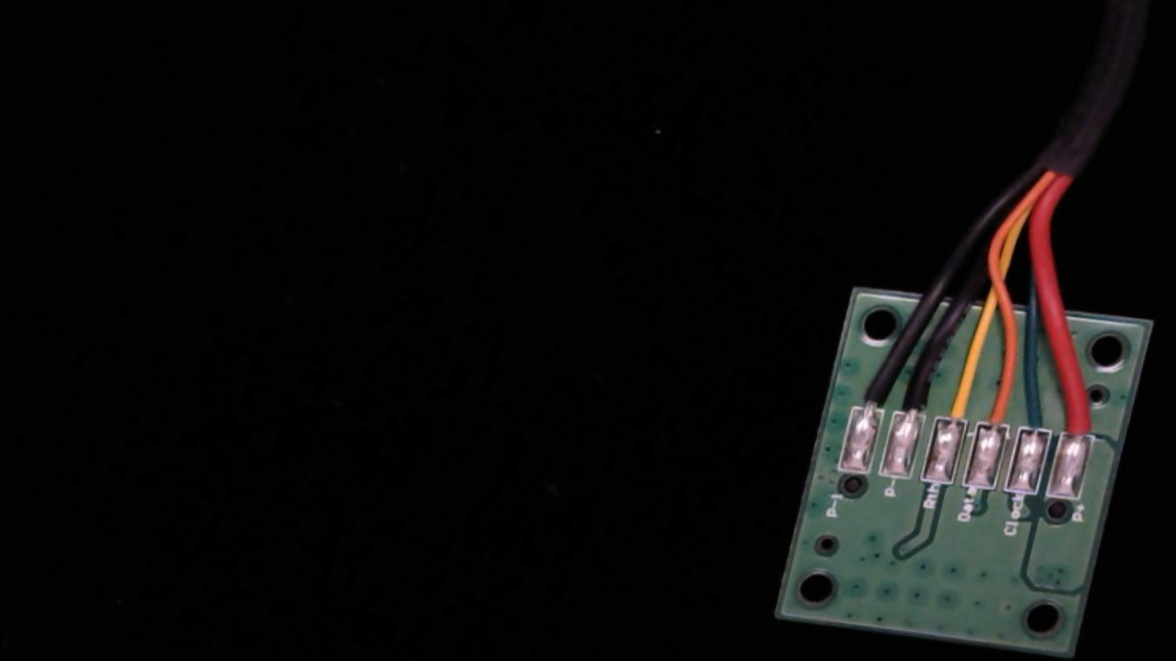Black: (893, 365, 939, 431)
Black1: (848, 362, 896, 425)
Green: (1012, 389, 1062, 446)
Orange: (972, 380, 1019, 442)
Red: (1056, 389, 1107, 451)
Yellow: (931, 369, 982, 436)
